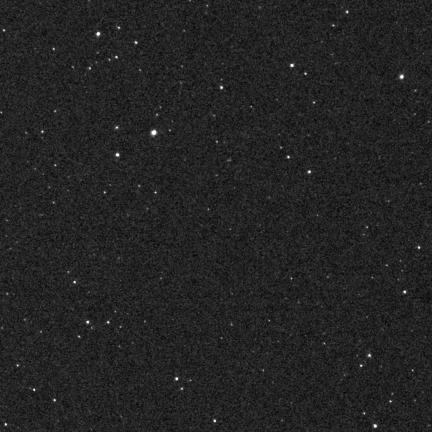blob: (151, 130, 157, 136), (116, 153, 120, 158), (96, 32, 100, 37)
